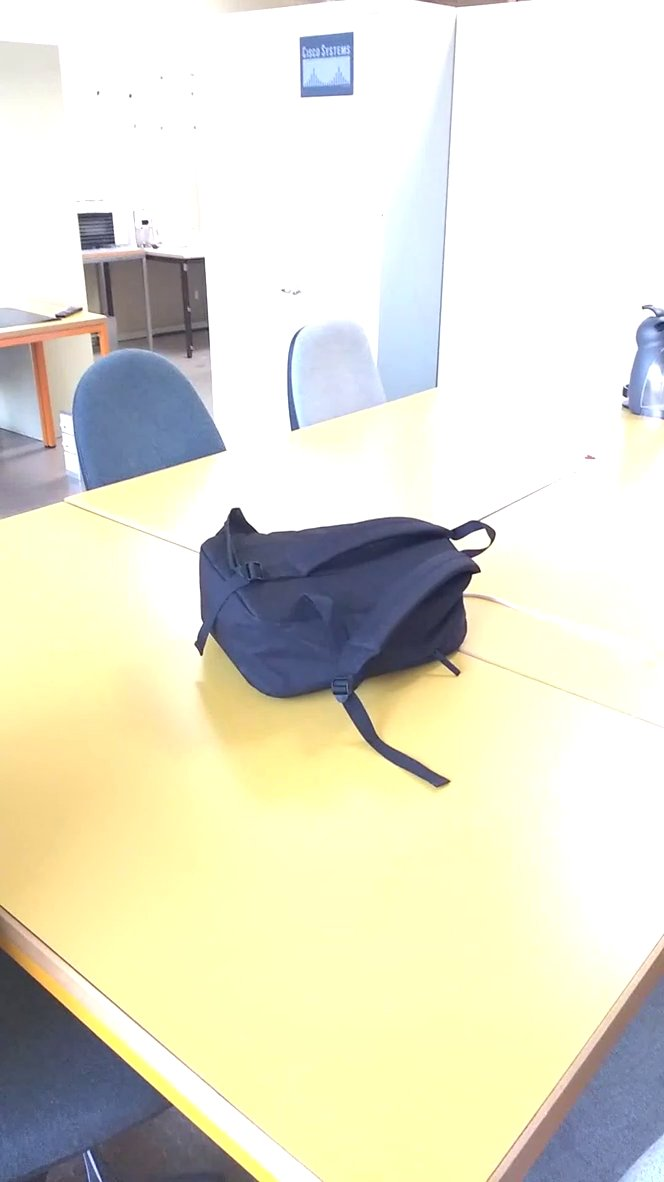bag: (153, 478, 514, 811)
chair: (64, 339, 240, 498), (279, 305, 402, 439)
